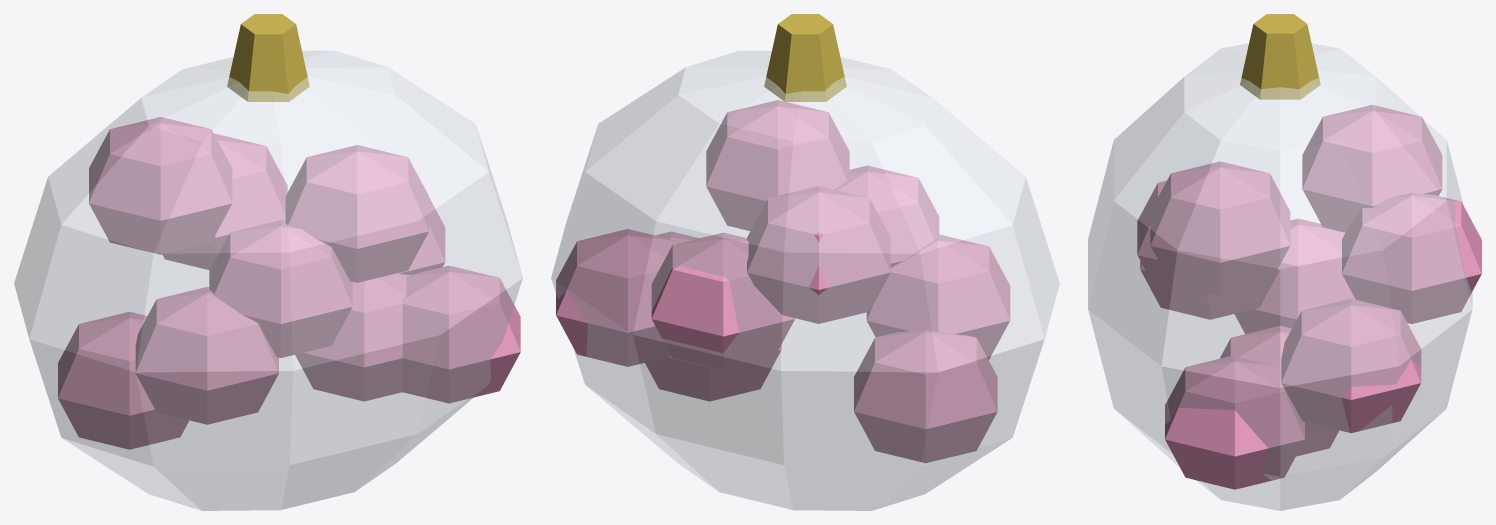
File: poodle_hair_bag.glb
The picture shows the model from 3 angles, left to right: view 1: azimuth 30°, elevation 25°; view 2: azimuth 150°, elevation 25°; view 3: azimuth 270°, elevation 25°; orthographic projection. The views are drawn at different scales.
Visible parts, largest first — view 1: sack_sack_clear, curls_poodle_pink, knot_sack_tie; view 2: sack_sack_clear, curls_poodle_pink, knot_sack_tie; view 3: sack_sack_clear, curls_poodle_pink, knot_sack_tie.
Part boxes in pixels (box(x1,y1,x2,y2)): sack_sack_clear: box(14, 50, 522, 510); curls_poodle_pink: box(58, 117, 520, 449); knot_sack_tie: box(227, 14, 309, 101); sack_sack_clear: box(551, 50, 1059, 510); curls_poodle_pink: box(556, 100, 1010, 463); knot_sack_tie: box(764, 14, 846, 101); sack_sack_clear: box(1088, 43, 1472, 510); curls_poodle_pink: box(1137, 105, 1481, 489); knot_sack_tie: box(1240, 14, 1320, 99).
Size of the model in its own units: 0.4 by 0.375 by 0.2922.
